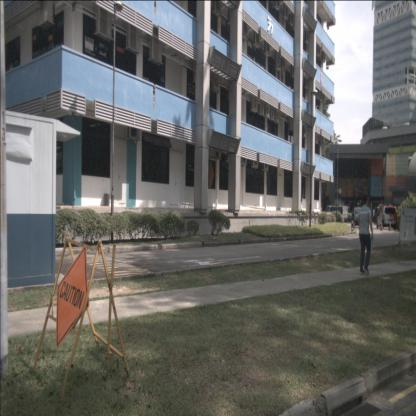cone: (378, 222, 384, 233), (388, 224, 394, 235)
